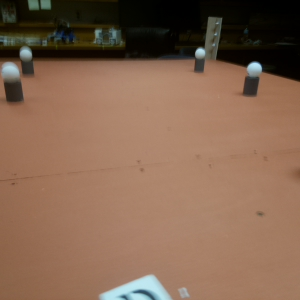corner: (206, 17, 220, 62)
obstacle: (1, 62, 24, 103), (243, 61, 260, 95), (20, 47, 35, 77), (194, 47, 204, 72)
